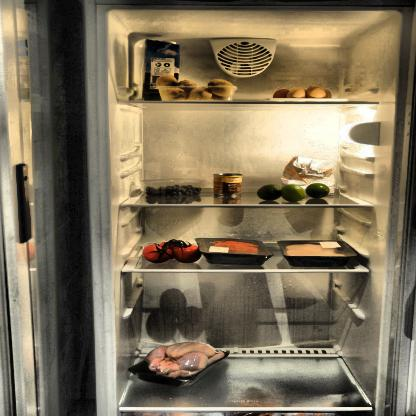beef: (205, 237, 267, 265)
blueberries: (144, 181, 202, 198)
chicken: (142, 339, 228, 386), (283, 240, 354, 268)
corn: (213, 172, 244, 198)
eggs: (271, 84, 334, 104)
lime: (256, 183, 333, 202)
milk: (145, 37, 180, 104)
potato: (158, 74, 238, 102)
tomato: (141, 239, 201, 266)
